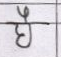ai_matra: (17, 5, 32, 22)
